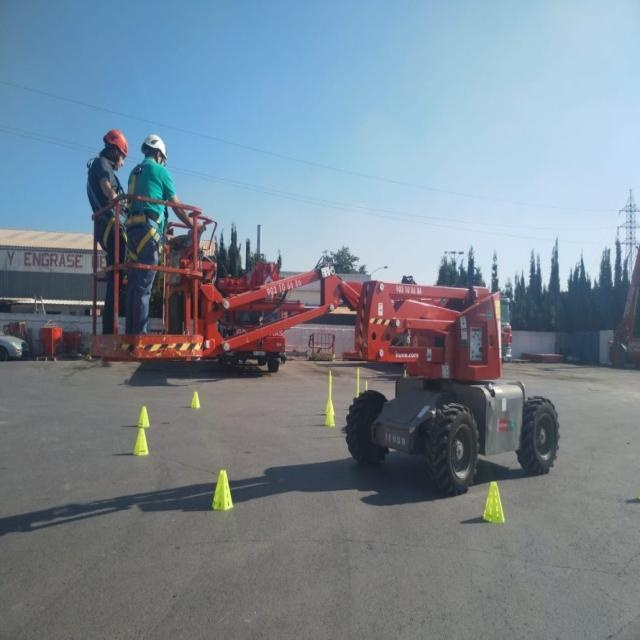Arnes_seguridad: (124, 161, 165, 263), (89, 183, 123, 257)
